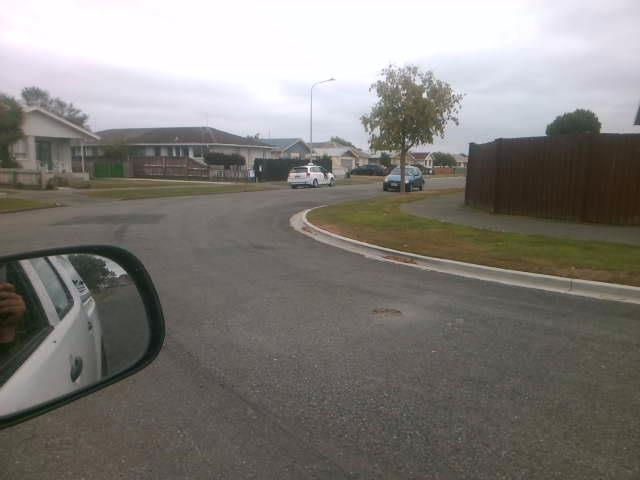pothole: (369, 305, 404, 321)
